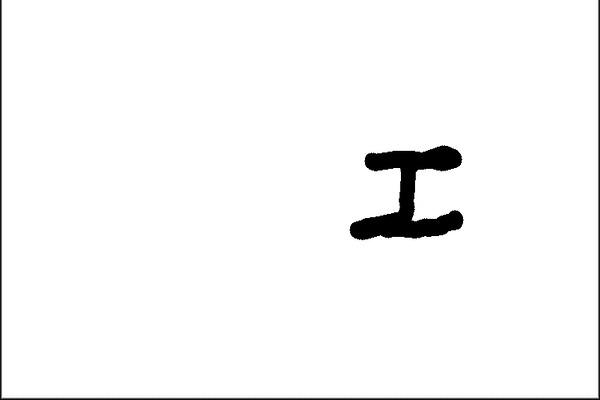i: (344, 139, 468, 249)
